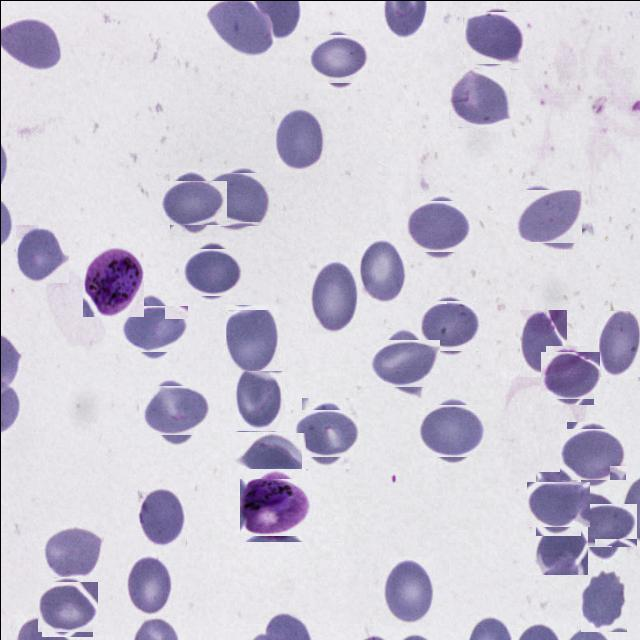red blood cell: (224, 304, 278, 376), (143, 379, 204, 440), (309, 258, 358, 333), (448, 67, 509, 127), (562, 424, 622, 484), (295, 402, 355, 462), (422, 400, 482, 460), (518, 186, 578, 246), (39, 525, 103, 581), (410, 196, 469, 255), (382, 556, 432, 625), (274, 106, 326, 172), (375, 333, 433, 392), (465, 8, 523, 66), (208, 170, 266, 228), (125, 298, 182, 356), (572, 496, 630, 553), (234, 432, 305, 478), (163, 173, 220, 230), (357, 237, 406, 303), (519, 309, 566, 376), (137, 486, 186, 549), (422, 297, 478, 352), (39, 578, 94, 634), (15, 224, 68, 282), (533, 518, 587, 574), (235, 370, 284, 431), (124, 553, 172, 615), (310, 31, 364, 86), (530, 476, 585, 530), (542, 348, 596, 402), (580, 568, 626, 631), (185, 244, 238, 298), (598, 310, 640, 376)
trophozoite: (242, 471, 308, 538), (82, 246, 143, 316)
